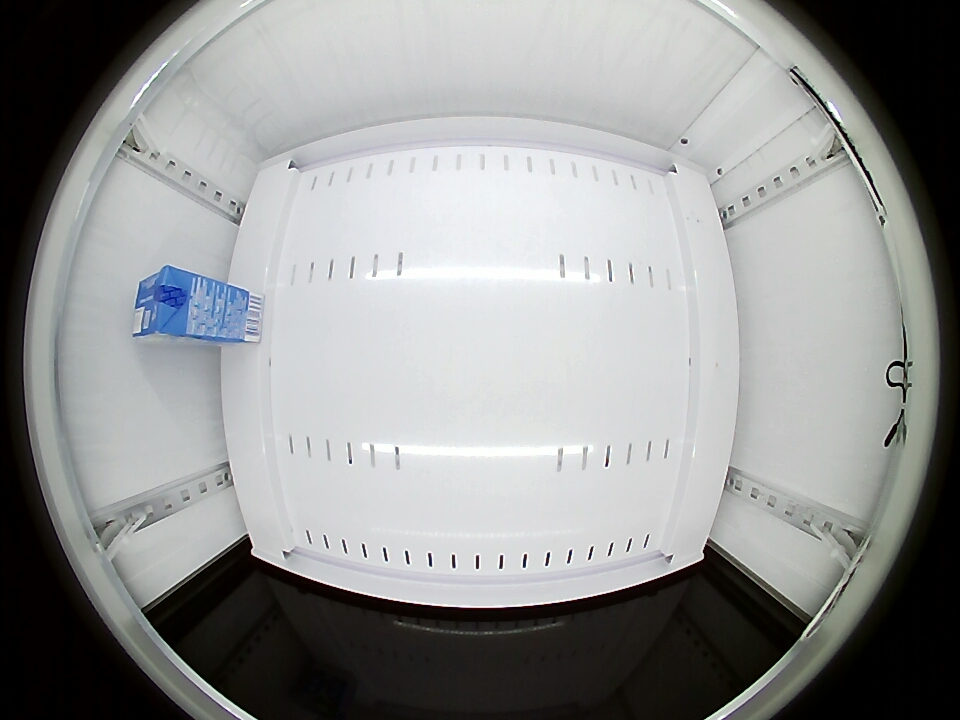weitanai: (132, 265, 201, 340)
